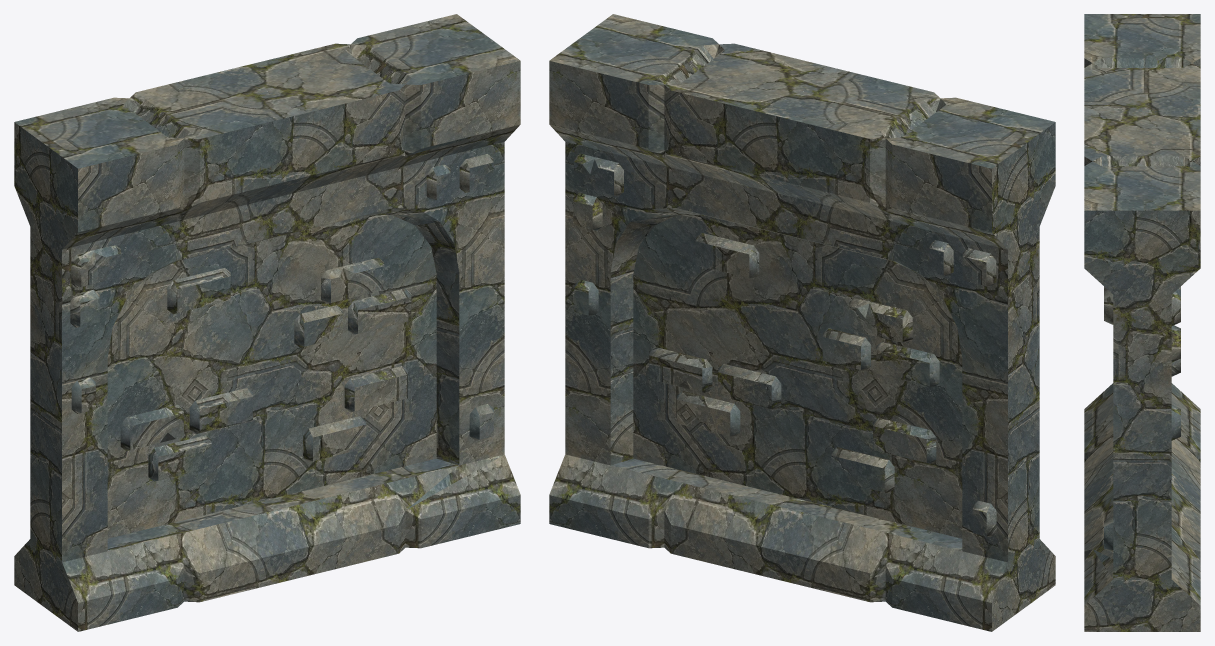
The model's file is wall_arched_finished.glb.
3 renders of one model, left to right at view 1: azimuth 30°, elevation 25°; view 2: azimuth 150°, elevation 25°; view 3: azimuth 270°, elevation 25°, orthographic. The views are drawn at different scales.
Parts seen in each view (by area): view 1: wall_arched.001; view 2: wall_arched.001; view 3: wall_arched.001.
Boxes of the visible parts, x1,y1,x2,y2 form: wall_arched.001: (14, 14, 520, 631); wall_arched.001: (549, 14, 1055, 631); wall_arched.001: (1084, 14, 1200, 631).
Size of the model in its own units: 4 by 4 by 1.
1 material, 1 textured.
